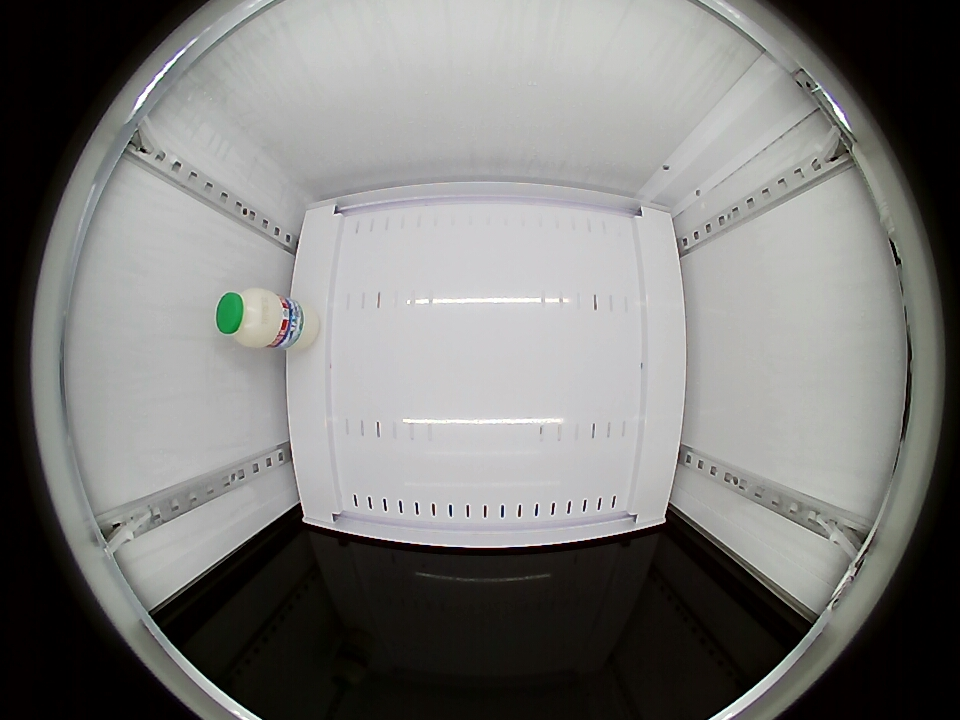liziyuan: (216, 288, 283, 349)
